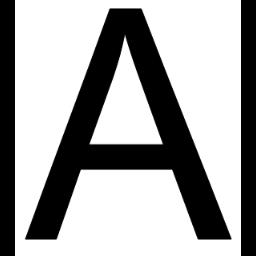a: (18, 5, 238, 245)
